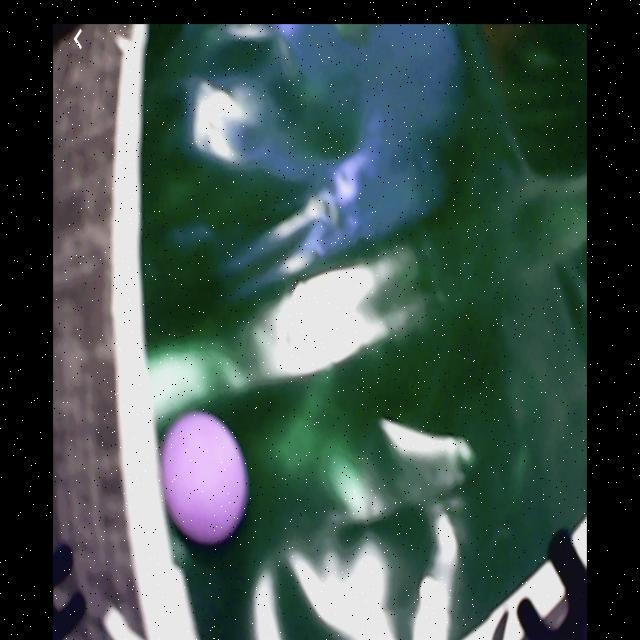ball: (160, 412, 249, 544)
